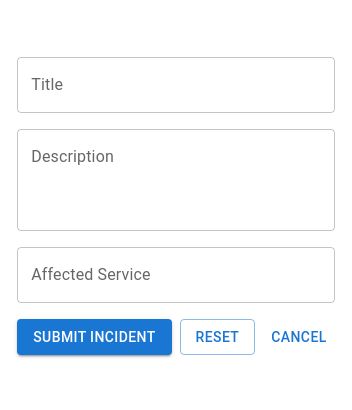
Scenario: IncidentForm › validates required fields
Click the button "Submit Incident": {"x": 94, "y": 337} [17, 319, 172, 355]
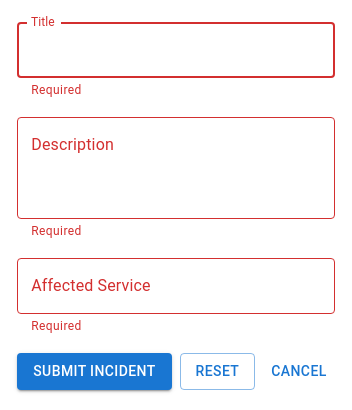
Expected: the text "Required" is shown 3 times, [31, 83, 82, 97]; [31, 224, 82, 238]; [31, 319, 82, 333]
